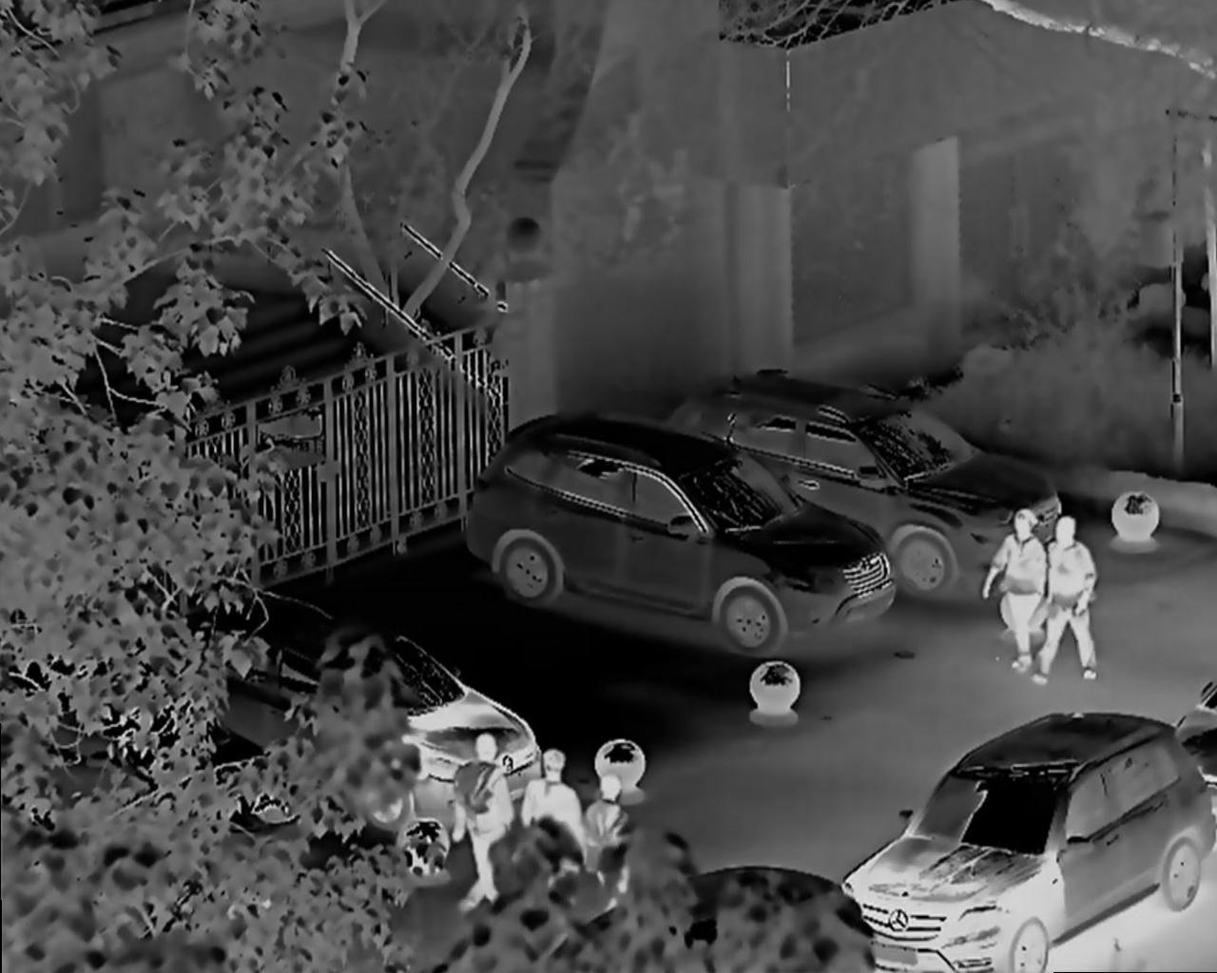person: (1045, 512, 1101, 707), (525, 743, 587, 918), (579, 773, 650, 925), (457, 731, 511, 924), (979, 509, 1043, 669)
